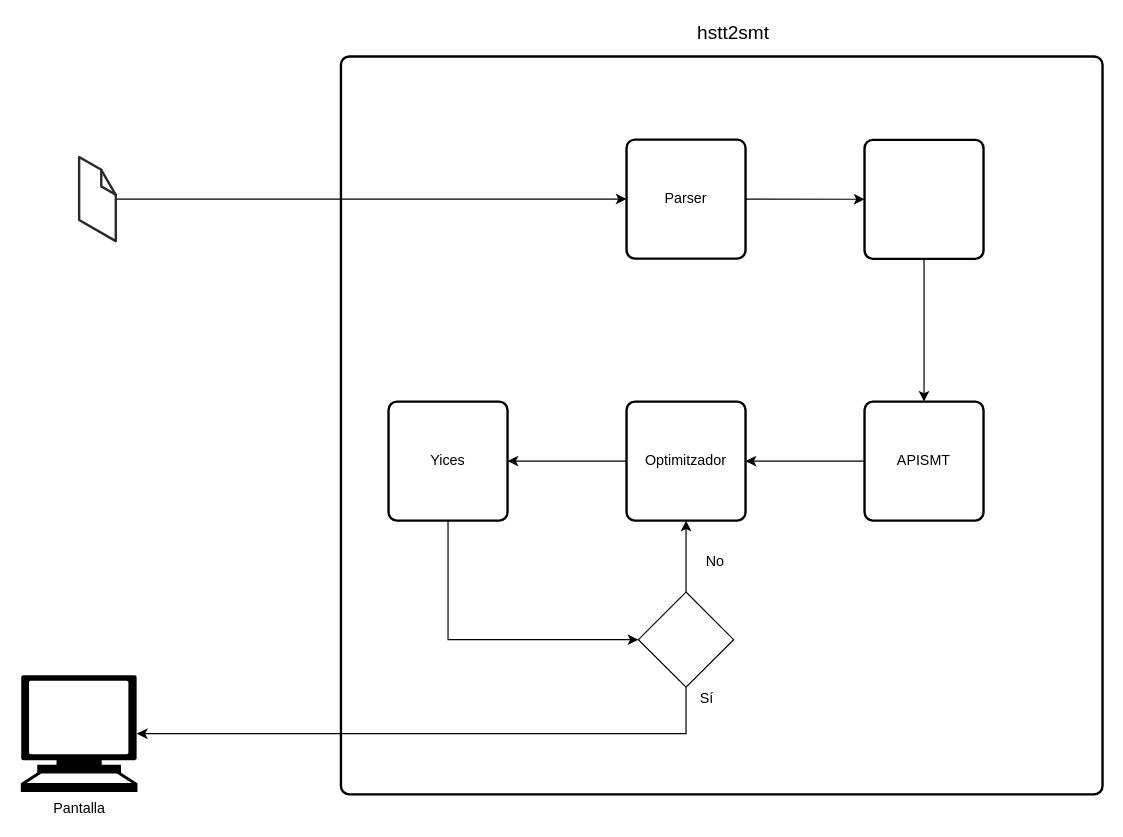
The diagram is 1123 pixels wide and 837 high, and some of its shapes have lost their labels. Each missing label, with the box of its shape:
HSTTEncoder: (863, 138, 984, 259)
Instància XHSTT: (78, 156, 116, 241)
Òptim?: (637, 591, 734, 687)
